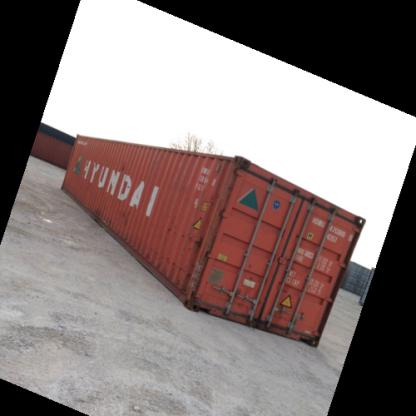Damage: (148, 244, 188, 281), (156, 217, 204, 245), (113, 202, 134, 223), (243, 259, 259, 283), (88, 199, 104, 220), (277, 280, 294, 296), (227, 285, 246, 299), (113, 160, 131, 174)
